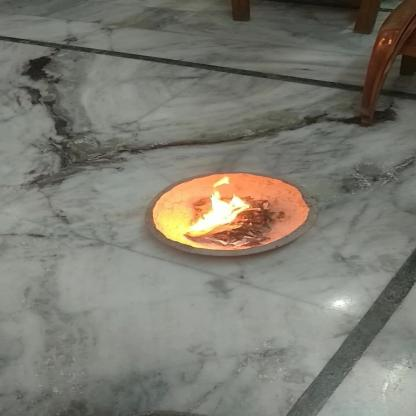fire: (187, 177, 255, 239)
